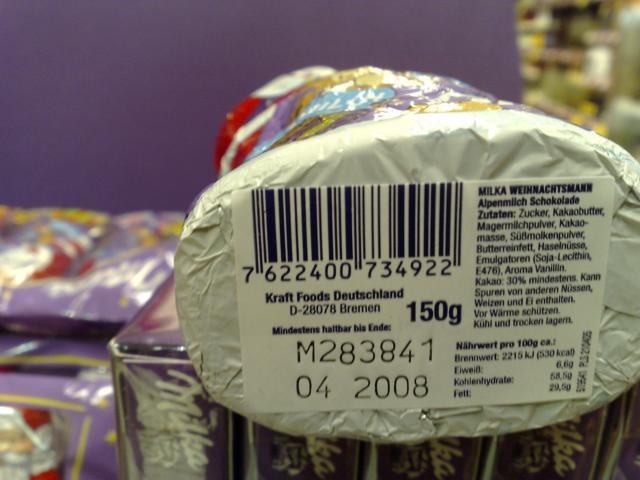Barcode: (239, 183, 474, 289)
